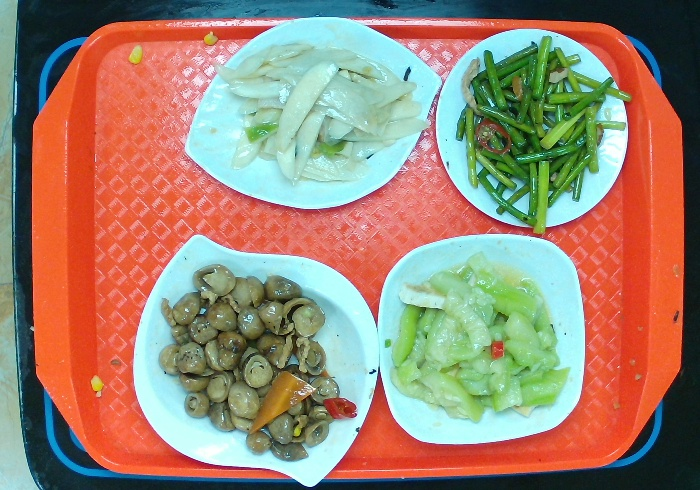RJxy-Da_Du_Pan: (181, 14, 447, 217)
RJxy-Shuang_Jiao_Pan: (127, 228, 385, 490)
RJxy-Si_Fang_Wan: (374, 230, 589, 448)
RJxy-Xiao_Yuan_Die: (431, 21, 632, 238)
